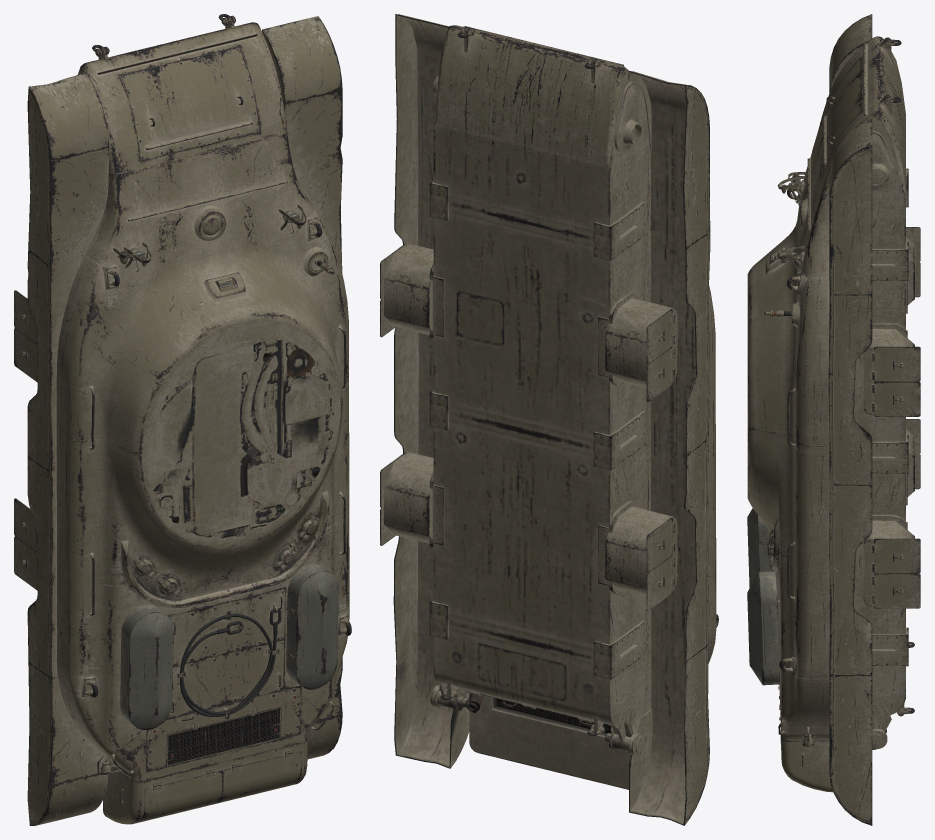
File: Hull.glb
3 renders of one model, left to right at view 1: azimuth 30°, elevation 25°; view 2: azimuth 150°, elevation 25°; view 3: azimuth 270°, elevation 25°, orthographic. The views are drawn at different scales.
Parts seen in each view (by area): view 1: set_0_group_0; view 2: set_0_group_0; view 3: set_0_group_0.
Part boxes in pixels (x1,y1,x2,y2): set_0_group_0: [14, 14, 351, 825]; set_0_group_0: [380, 14, 718, 825]; set_0_group_0: [747, 14, 920, 825].
Size of the model in its own units: 3.32 by 8.15 by 1.85.
1 material, 1 textured.
